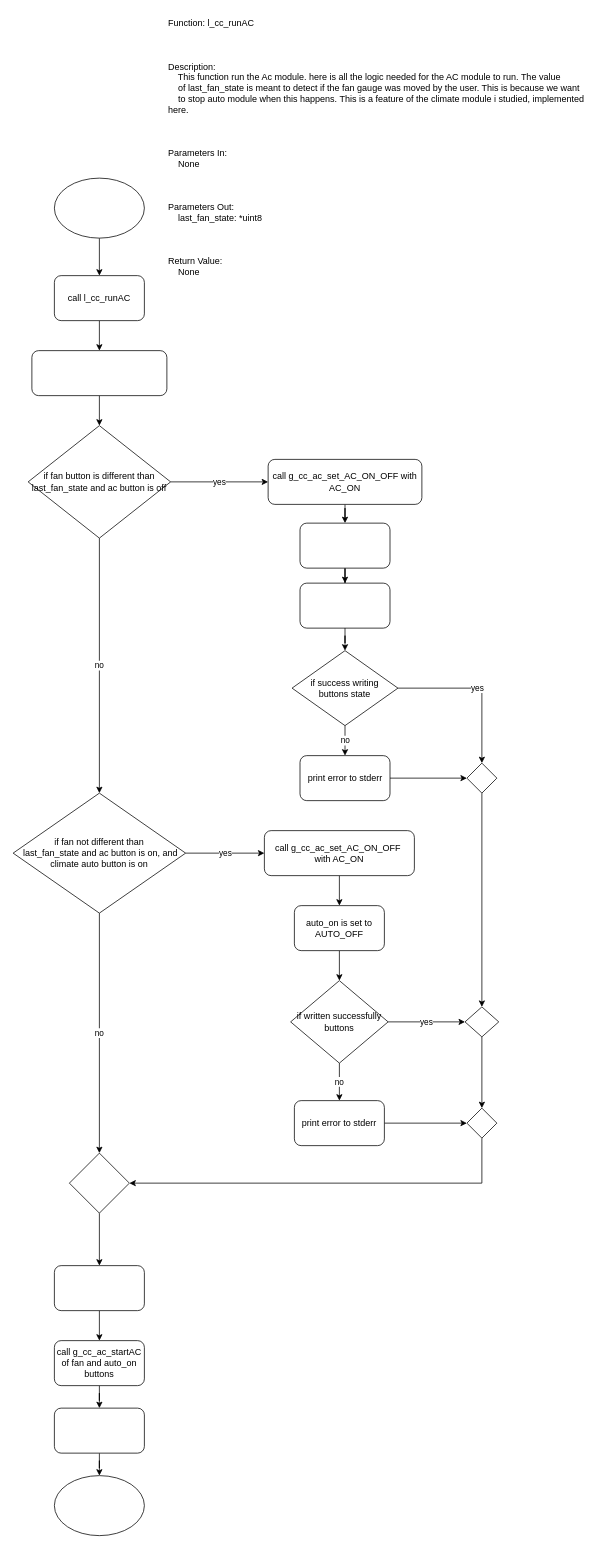
The diagram is 600 pixels wide and 1549 high, and some of its shapes have lost their labels. Each missing label, with the centre of its shape:
"call g_cc_ac_set_AC_ON_OFF given ac_on button" goes at [99,373].
"call g_cc_ac_stopAC of auto_on button" goes at [99,1288].
"last_fan_state recieves the fan button value" goes at [99,1430].
"set ac button to on" goes at [344,545].
"set auto button to on" goes at [344,605].
